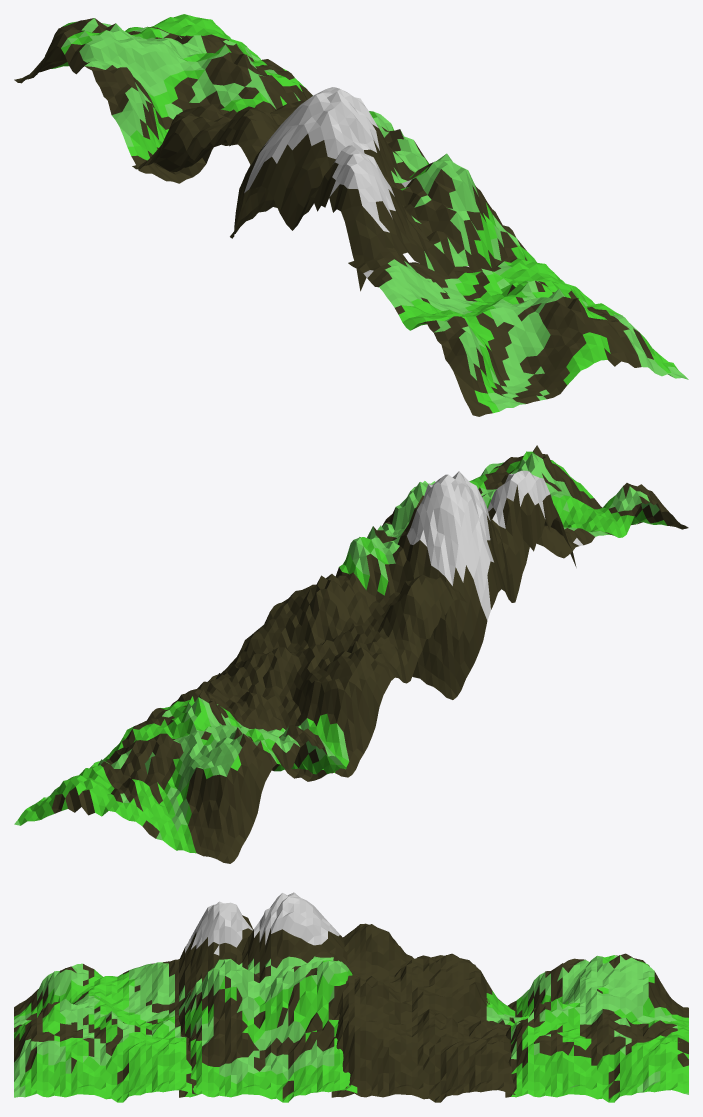
Rendered from background.fbx.
The picture shows the model from 3 angles, top to bottom: view 1: azimuth 30°, elevation 25°; view 2: azimuth 150°, elevation 25°; view 3: azimuth 270°, elevation 25°; orthographic projection. The views are drawn at different scales.
Visible parts, largest first — view 1: Plane.000, Plane.001, Plane.002, Plane.003; view 2: Plane.003, Plane.002, Plane.000, Plane.001; view 3: Plane.000, Plane.003, Plane.002, Plane.001.
Boxes of the visible parts, bbox=[...] form: Plane.000: bbox=[230, 87, 536, 291]; Plane.001: bbox=[348, 247, 688, 416]; Plane.002: bbox=[14, 14, 312, 183]; Plane.003: bbox=[132, 100, 304, 188]; Plane.003: bbox=[170, 572, 466, 781]; Plane.002: bbox=[14, 689, 346, 863]; Plane.000: bbox=[335, 470, 576, 699]; Plane.001: bbox=[469, 445, 688, 558]; Plane.000: bbox=[179, 892, 362, 1102]; Plane.003: bbox=[331, 923, 515, 1102]; Plane.002: bbox=[498, 953, 688, 1102]; Plane.001: bbox=[14, 959, 197, 1102].
Bounding box in the file's own units: 1694 × 1429 × 5854.
